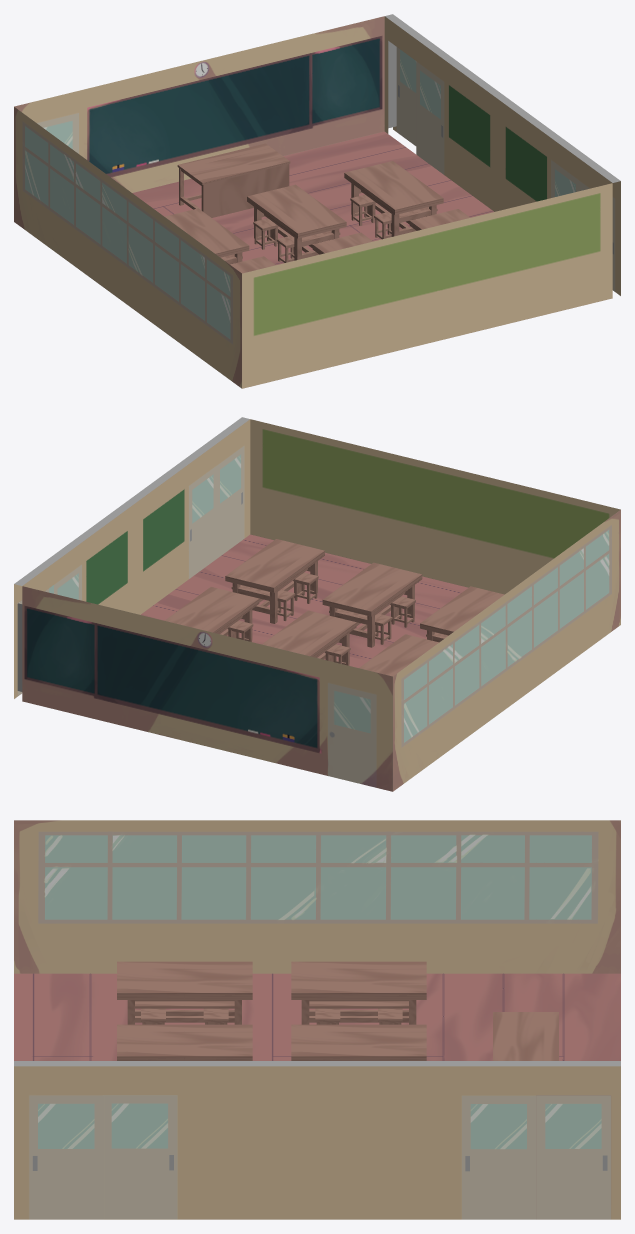
The model's file is zukoushitsu01.fbx.
The picture shows the model from 3 angles, top to bottom: view 1: azimuth 30°, elevation 25°; view 2: azimuth 150°, elevation 25°; view 3: azimuth 270°, elevation 25°; orthographic projection. The views are drawn at different scales.
Visible parts, largest first — view 1: polySurface2, group16, kyoutaku2, dore; view 2: polySurface2, group16; view 3: polySurface2, group16, dore, kyoutaku2.
Boxes of the visible parts, bbox=[...] form: polySurface2: bbox=[14, 14, 620, 388]; group16: bbox=[165, 161, 470, 273]; kyoutaku2: bbox=[177, 143, 290, 217]; dore: bbox=[396, 47, 416, 145]; polySurface2: bbox=[14, 417, 620, 791]; group16: bbox=[164, 539, 504, 676]; polySurface2: bbox=[14, 820, 620, 1219]; group16: bbox=[117, 961, 426, 1060]; dore: bbox=[536, 1095, 610, 1219]; kyoutaku2: bbox=[493, 1012, 558, 1060].
Bounding box in the file's own units: 23.39 × 6.8 × 24.39.
